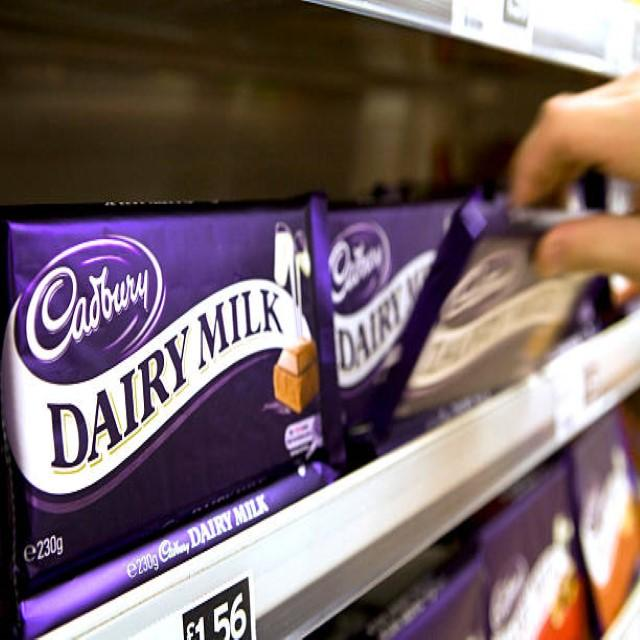cadbury_chocolate: (18, 213, 322, 537)
